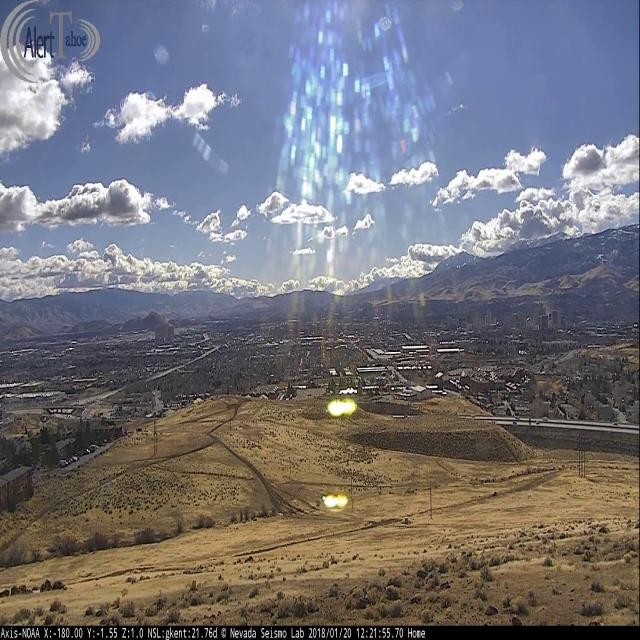smoke: (536, 290, 558, 330)
